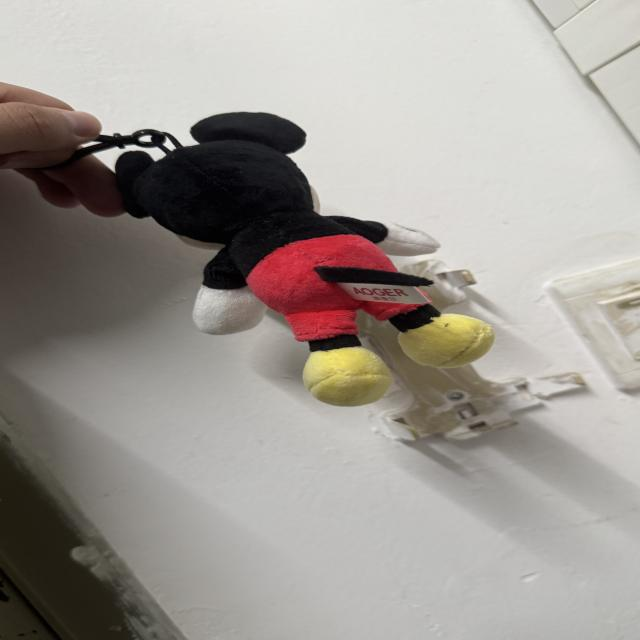mickey: (116, 113, 493, 405)
